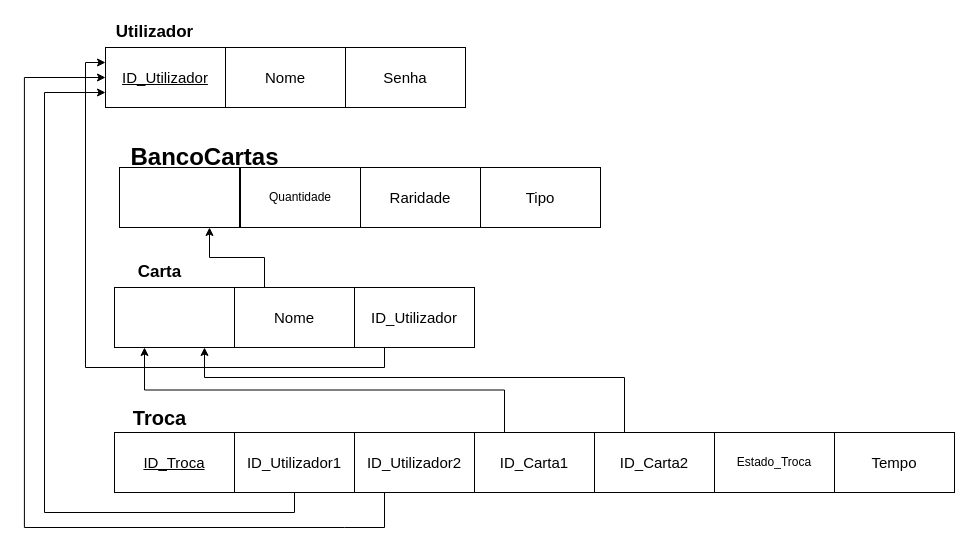
Image size: 973x553. Some labels were removed from this diagram. Each missing label, with the centre of its shape:
"ID_Carta" goes at point 174,317.
"Nome_Carta" goes at point 179,197.
